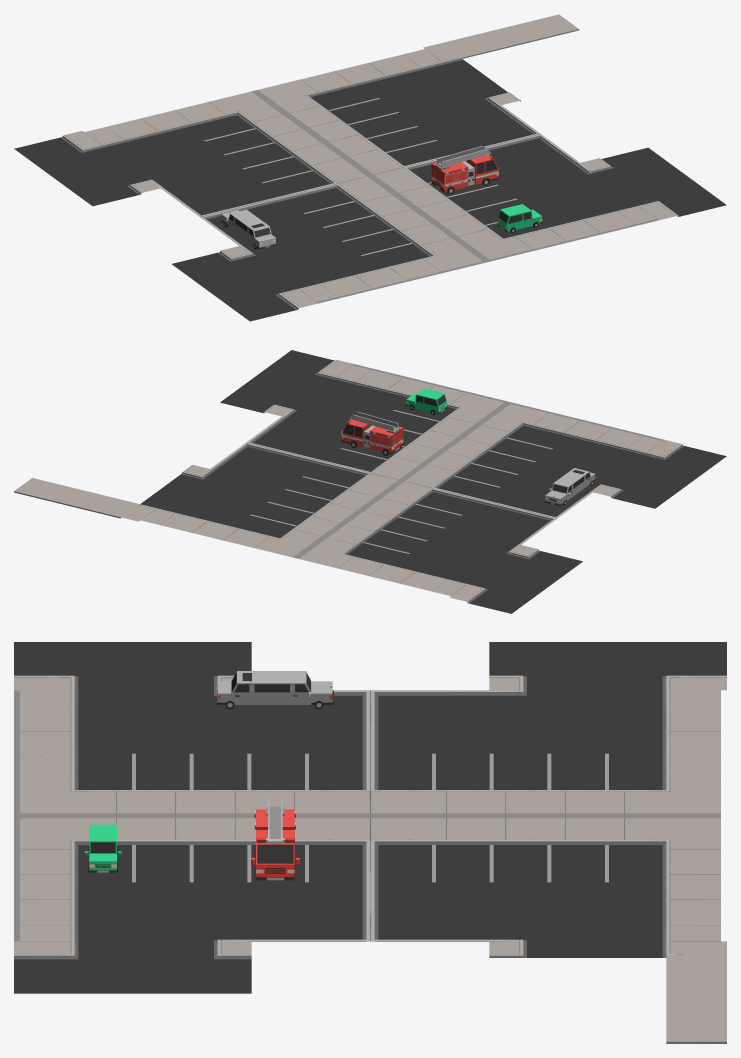
File: carpark_hub.FBX
3 renders of one model, top to bottom at view 1: azimuth 30°, elevation 25°; view 2: azimuth 150°, elevation 25°; view 3: azimuth 270°, elevation 25°, orthographic. The views are drawn at different scales.
Visible parts, largest first — view 1: Carpark, Carpark__1_, Carpark__3_, Carpark__2_, Probuilder_Bit, fire_truck_seperate_mesh, limo_white_prefab, car_seperate_green; view 2: Carpark, Carpark__1_, Carpark__3_, Carpark__2_, Probuilder_Bit, fire_truck_seperate_mesh, limo_white_prefab, car_seperate_green; view 3: Carpark, Carpark__3_, Carpark__1_, Carpark__2_, Probuilder_Bit, limo_white_prefab, fire_truck_seperate_mesh, car_seperate_green.
Boxes of the visible parts, <box> form: Carpark: <box>14,91,366,216</box>; Carpark__1_: <box>172,176,482,321</box>; Carpark__3_: <box>258,14,579,174</box>; Carpark__2_: <box>374,134,726,259</box>; Probuilder_Bit: <box>251,90,658,303</box>; fire_truck_seperate_mesh: <box>431,146,499,192</box>; limo_white_prefab: <box>221,209,276,249</box>; car_seperate_green: <box>497,204,542,233</box>; Carpark: <box>299,481,582,613</box>; Carpark__1_: <box>405,404,726,518</box>; Carpark__3_: <box>14,443,397,557</box>; Carpark__2_: <box>220,350,503,479</box>; Probuilder_Bit: <box>293,364,664,558</box>; fire_truck_seperate_mesh: <box>340,411,403,453</box>; limo_white_prefab: <box>545,468,595,505</box>; car_seperate_green: <box>405,388,446,414</box>; Carpark: <box>370,642,726,813</box>; Carpark__3_: <box>370,818,726,1043</box>; Carpark__1_: <box>14,642,370,813</box>; Carpark__2_: <box>14,818,370,993</box>; Probuilder_Bit: <box>14,690,720,941</box>; limo_white_prefab: <box>217,671,333,709</box>; fire_truck_seperate_mesh: <box>251,799,299,880</box>; car_seperate_green: <box>84,824,121,872</box>.
Size of the model in its own units: 79199 by 4497 by 59400.
Materials: 6 (5 with a texture image).
